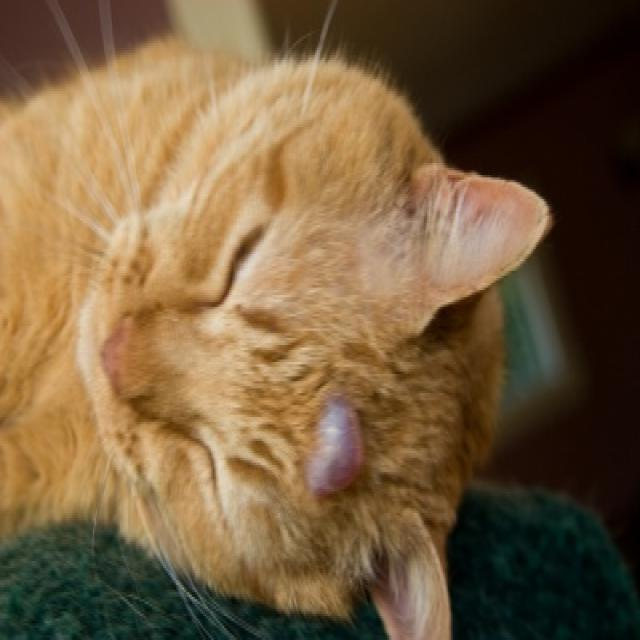cat-lump-and-bump: (300, 388, 371, 505)
